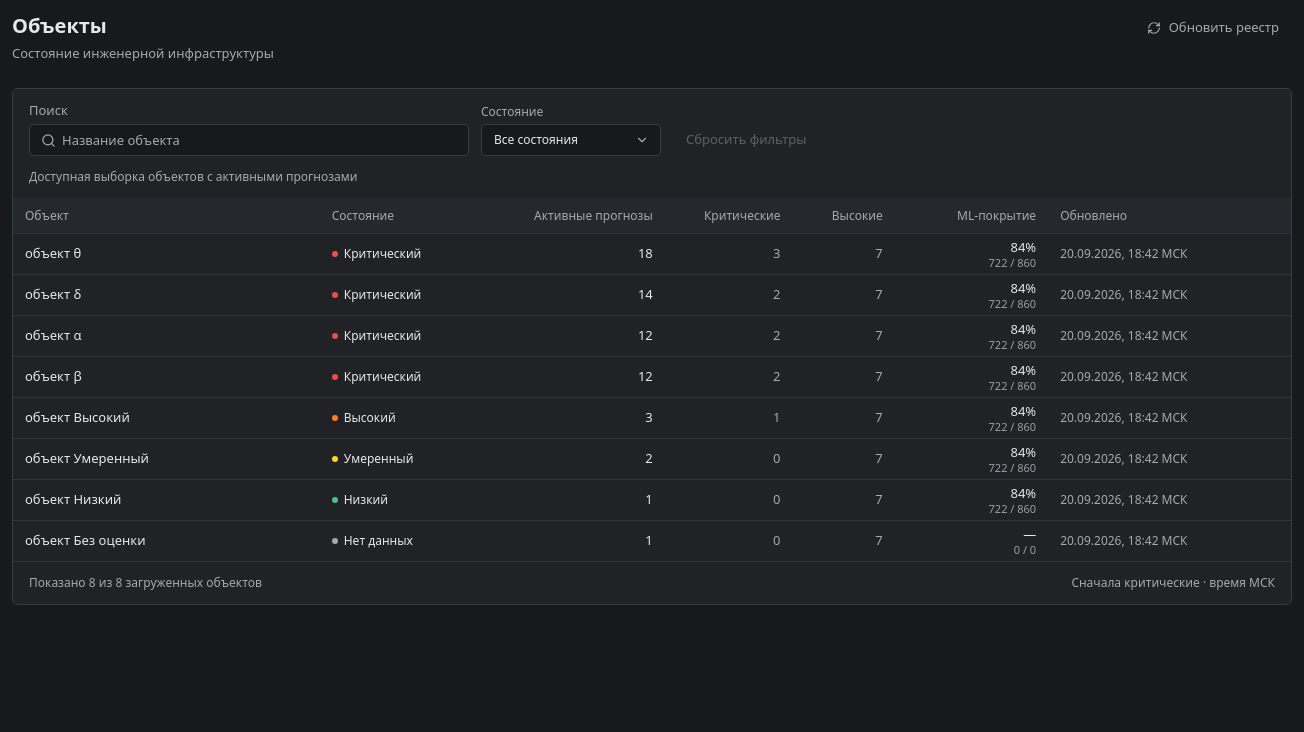
Test: Objects registry › combines and resets filters with distinct filtered-empty feedback
In the search field: [249, 140] box [29,124,469,156], type "Фита"
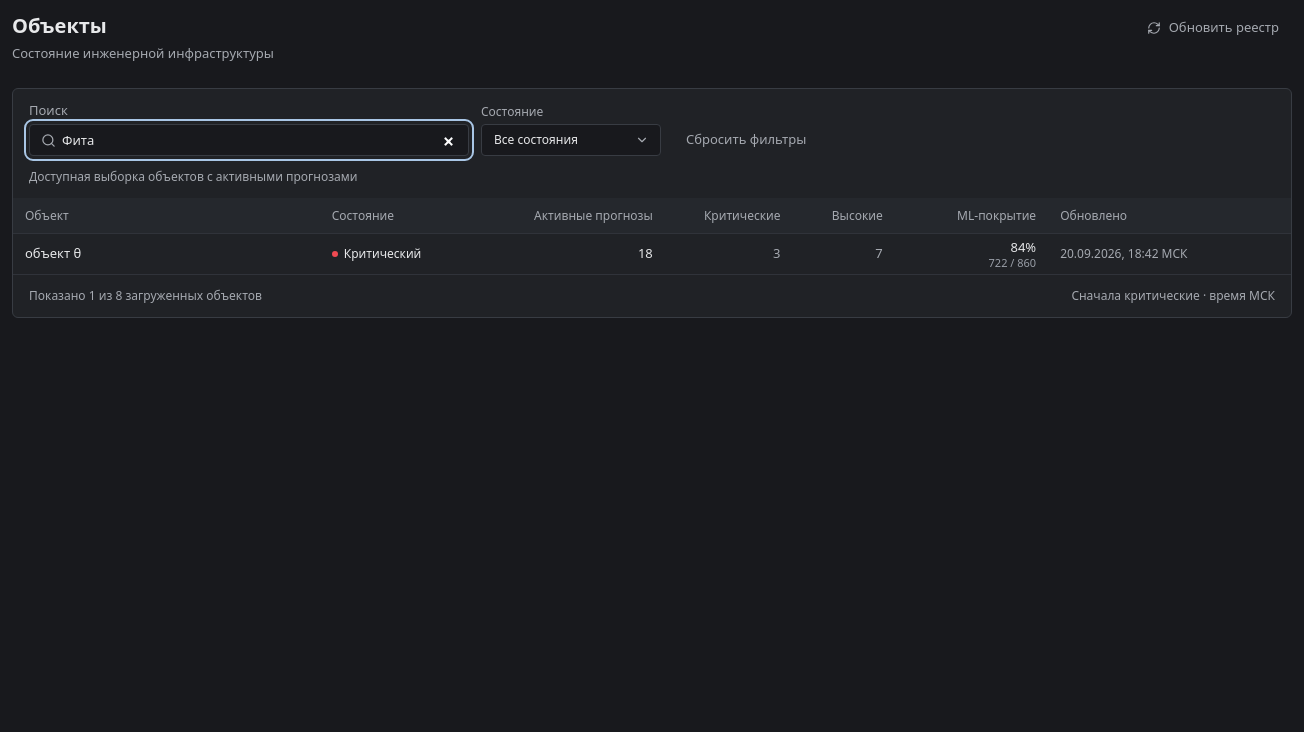
Select "Высокие" in the dropdown labelled "Состояние": [571, 140] box [481,124,661,156]
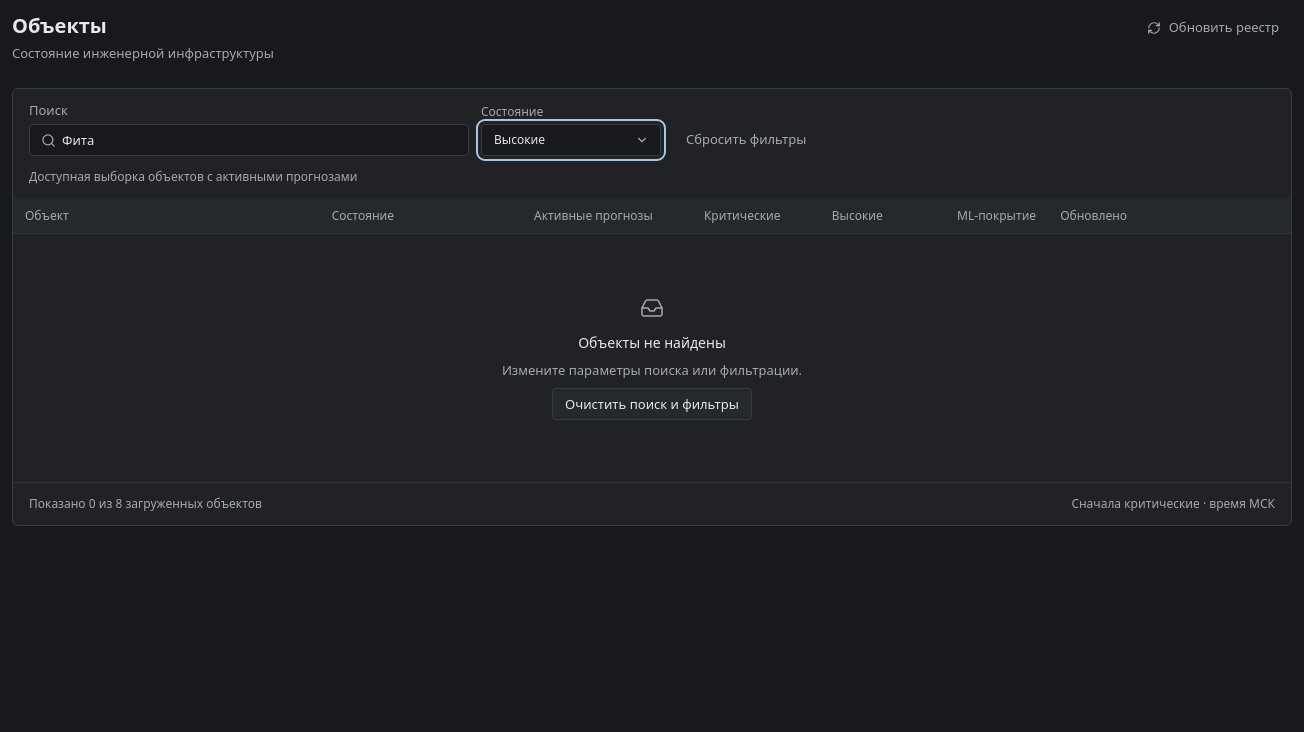
Result: the heading "Объекты не найдены" is shown at [578,332,726,353]
Click the button "Сбросить фильтры": [746, 140] box [673,124,819,156]
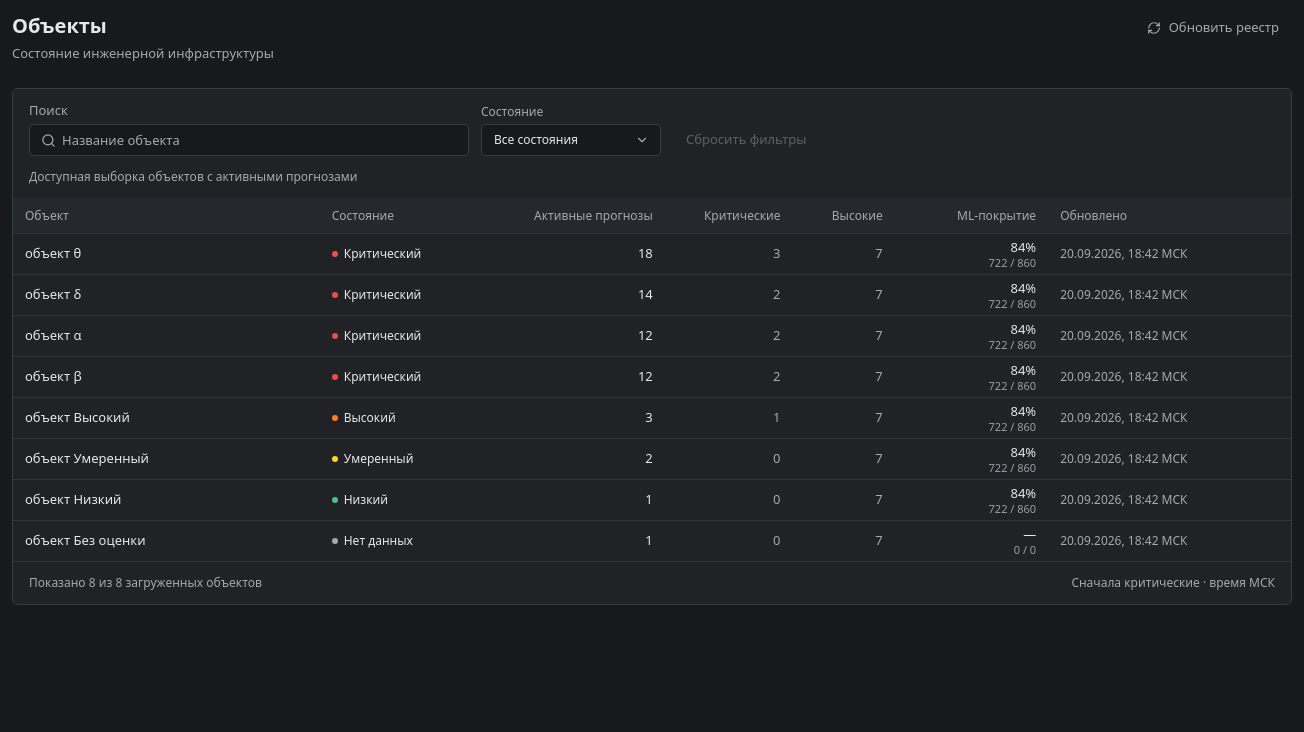
Result: the search field is empty at [29,124,469,156]
Result: the button "Сбросить фильтры" is disabled at [673,124,819,156]
